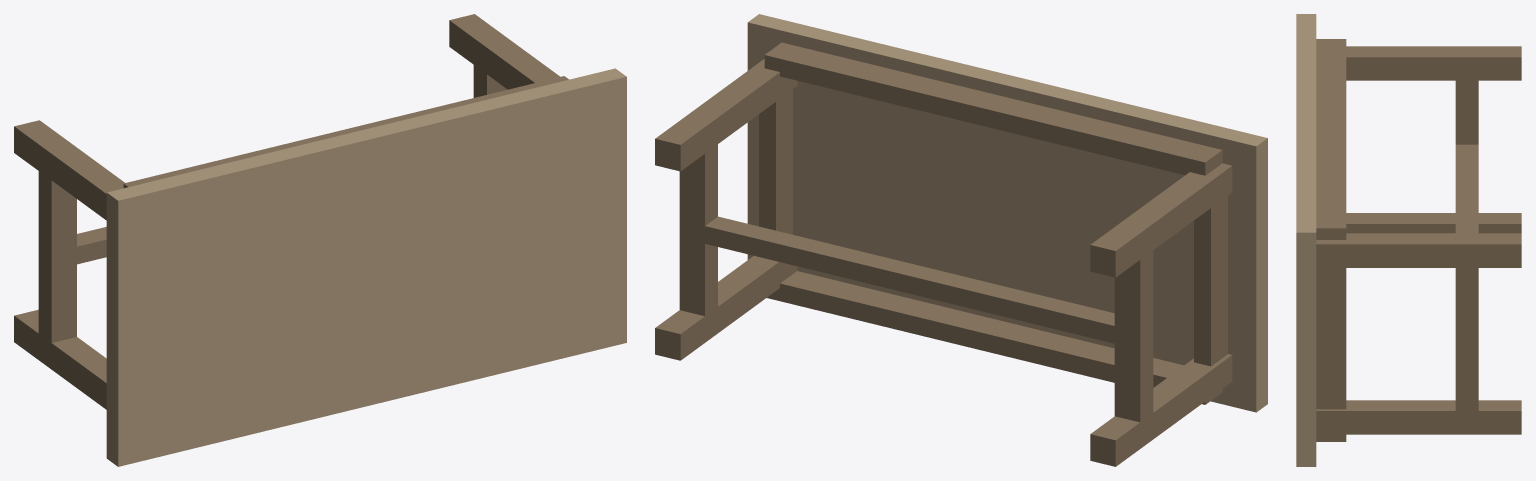
The model's file is DiningTable.glb.
3 renders of one model, left to right at view 1: azimuth 30°, elevation 25°; view 2: azimuth 150°, elevation 25°; view 3: azimuth 270°, elevation 25°, orthographic. The views are drawn at different scales.
Parts seen in each view (by area): view 1: FTF_Interior_DiningTable_Wood_v1_Top, FTF_Interior_DiningTable_Wood_v1_StretcherCrossL, FTF_Interior_DiningTable_Wood_v1_Leg2, FTF_Interior_DiningTable_Wood_v1_Leg3, FTF_Interior_DiningTable_Wood_v1_Leg0, FTF_Interior_DiningTable_Wood_v1_ApronBack, FTF_Interior_DiningTable_Wood_v1_StretcherLong, FTF_Interior_DiningTable_Wood_v1_StretcherCrossR; view 2: FTF_Interior_DiningTable_Wood_v1_Top, FTF_Interior_DiningTable_Wood_v1_ApronBack, FTF_Interior_DiningTable_Wood_v1_StretcherLong, FTF_Interior_DiningTable_Wood_v1_ApronFront, FTF_Interior_DiningTable_Wood_v1_StretcherCrossL, FTF_Interior_DiningTable_Wood_v1_Leg2, FTF_Interior_DiningTable_Wood_v1_Leg3, FTF_Interior_DiningTable_Wood_v1_StretcherCrossR, FTF_Interior_DiningTable_Wood_v1_Leg0, FTF_Interior_DiningTable_Wood_v1_Leg1, FTF_Interior_DiningTable_Wood_v1_ApronLeft, FTF_Interior_DiningTable_Wood_v1_ApronRight; view 3: FTF_Interior_DiningTable_Wood_v1_Top, FTF_Interior_DiningTable_Wood_v1_Leg3, FTF_Interior_DiningTable_Wood_v1_Leg1, FTF_Interior_DiningTable_Wood_v1_ApronBack, FTF_Interior_DiningTable_Wood_v1_Leg2, FTF_Interior_DiningTable_Wood_v1_ApronRight, FTF_Interior_DiningTable_Wood_v1_StretcherCrossR, FTF_Interior_DiningTable_Wood_v1_Leg0, FTF_Interior_DiningTable_Wood_v1_StretcherLong, FTF_Interior_DiningTable_Wood_v1_StretcherCrossL, FTF_Interior_DiningTable_Wood_v1_ApronFront.
Boxes of the visible parts, x1,y1,x2,y2 form: FTF_Interior_DiningTable_Wood_v1_Top: (106, 68, 626, 466); FTF_Interior_DiningTable_Wood_v1_StretcherCrossL: (38, 160, 76, 351); FTF_Interior_DiningTable_Wood_v1_Leg2: (14, 120, 124, 220); FTF_Interior_DiningTable_Wood_v1_Leg3: (449, 14, 560, 89); FTF_Interior_DiningTable_Wood_v1_Leg0: (14, 309, 106, 409); FTF_Interior_DiningTable_Wood_v1_ApronBack: (123, 76, 568, 188); FTF_Interior_DiningTable_Wood_v1_StretcherLong: (73, 227, 106, 265); FTF_Interior_DiningTable_Wood_v1_StretcherCrossR: (473, 51, 507, 97); FTF_Interior_DiningTable_Wood_v1_Top: (747, 14, 1267, 412); FTF_Interior_DiningTable_Wood_v1_ApronBack: (764, 42, 1222, 175); FTF_Interior_DiningTable_Wood_v1_StretcherLong: (700, 216, 1118, 344); FTF_Interior_DiningTable_Wood_v1_ApronFront: (767, 271, 1222, 404); FTF_Interior_DiningTable_Wood_v1_StretcherCrossL: (1114, 237, 1153, 435); FTF_Interior_DiningTable_Wood_v1_Leg2: (1090, 163, 1232, 277); FTF_Interior_DiningTable_Wood_v1_Leg3: (655, 59, 797, 171); FTF_Interior_DiningTable_Wood_v1_StretcherCrossR: (679, 131, 717, 326); FTF_Interior_DiningTable_Wood_v1_Leg0: (1090, 354, 1232, 466); FTF_Interior_DiningTable_Wood_v1_Leg1: (655, 256, 797, 360); FTF_Interior_DiningTable_Wood_v1_ApronLeft: (1194, 196, 1227, 366); FTF_Interior_DiningTable_Wood_v1_ApronRight: (759, 89, 792, 234); FTF_Interior_DiningTable_Wood_v1_Top: (1296, 14, 1316, 466); FTF_Interior_DiningTable_Wood_v1_Leg3: (1316, 233, 1521, 267); FTF_Interior_DiningTable_Wood_v1_Leg1: (1316, 400, 1521, 434); FTF_Interior_DiningTable_Wood_v1_ApronBack: (1316, 39, 1346, 239); FTF_Interior_DiningTable_Wood_v1_Leg2: (1346, 46, 1521, 80); FTF_Interior_DiningTable_Wood_v1_ApronRight: (1316, 268, 1346, 409); FTF_Interior_DiningTable_Wood_v1_StretcherCrossR: (1455, 256, 1478, 422); FTF_Interior_DiningTable_Wood_v1_Leg0: (1346, 213, 1521, 233); FTF_Interior_DiningTable_Wood_v1_StretcherLong: (1455, 144, 1478, 233); FTF_Interior_DiningTable_Wood_v1_StretcherCrossL: (1455, 69, 1478, 144); FTF_Interior_DiningTable_Wood_v1_ApronFront: (1316, 434, 1346, 441).
Size of the model in its own units: 1.8 by 0.9 by 0.785.
